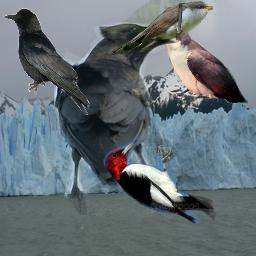Crow: (54, 17, 178, 215), (3, 8, 90, 115)
Cuckoo: (145, 24, 248, 104), (108, 0, 213, 55)
Woodpecker: (92, 134, 219, 229)
